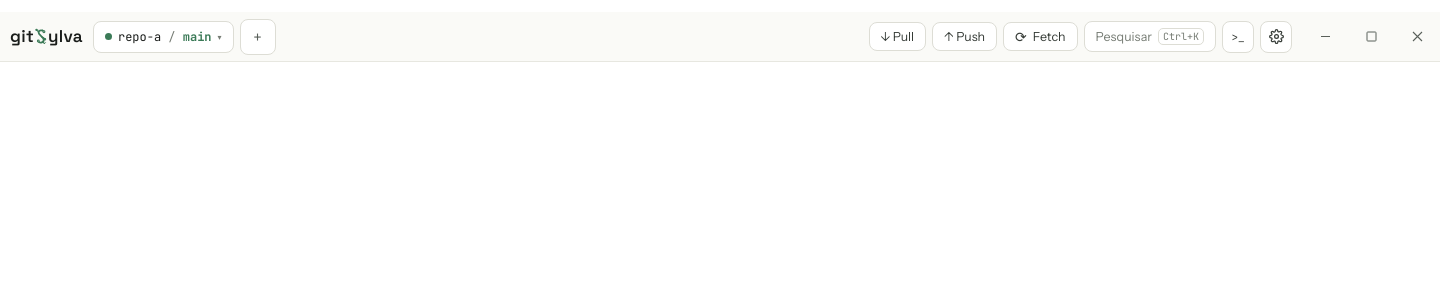
Test: Titlebar repo dropdown — pinned (FIXADOS) › Fixar in the row menu pins the repo; the menu then offers Remover dos fixados
Click the button "repo-a / main ▾": click(163, 36) left=93, top=20, right=234, bottom=52
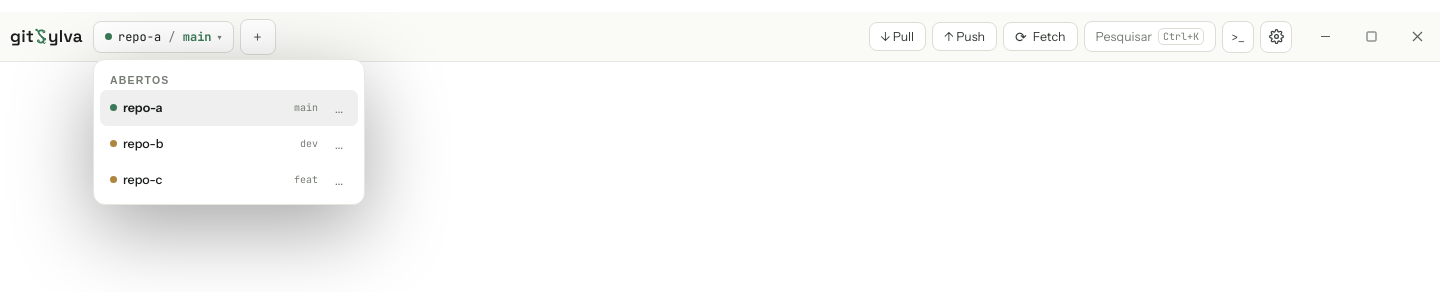
Click the button named "Opções do repositório": click(339, 108) left=335, top=100, right=343, bottom=116
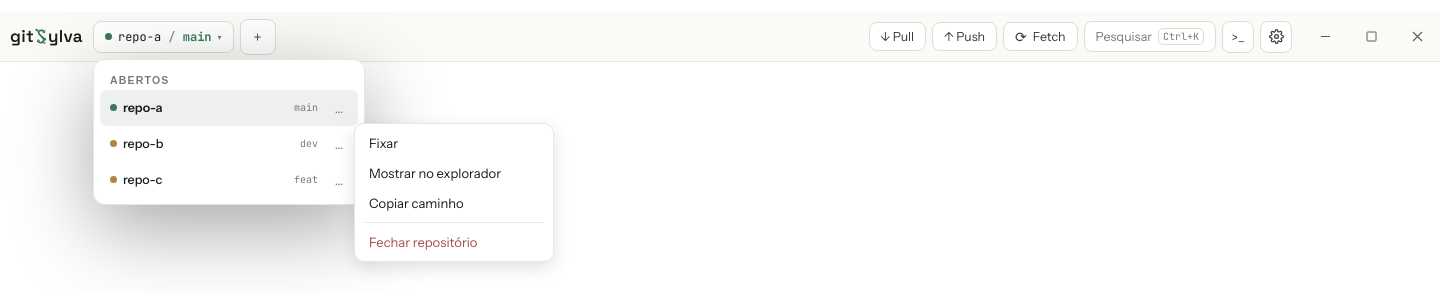
Click the text "Fixar": click(384, 142) left=369, top=134, right=398, bottom=150
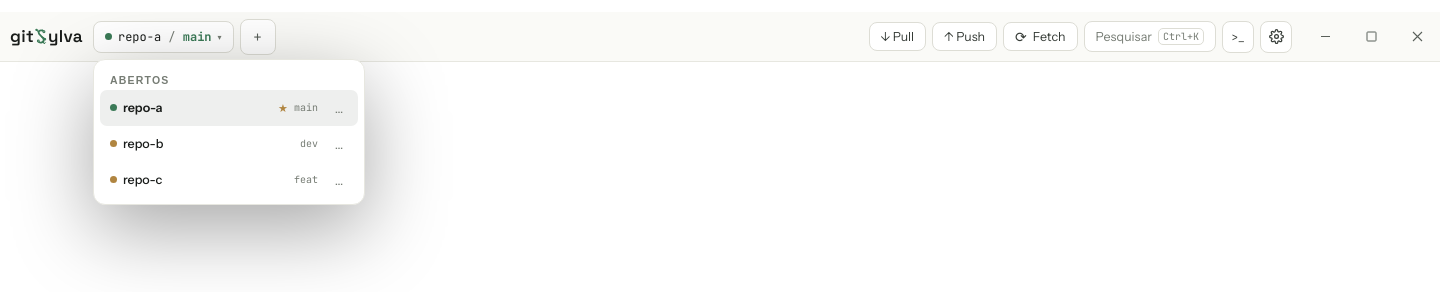
Picking the item only closes the `…` menu, not the parent dropdown.
Click the button named "Opções do repositório": click(339, 108) left=335, top=100, right=343, bottom=116
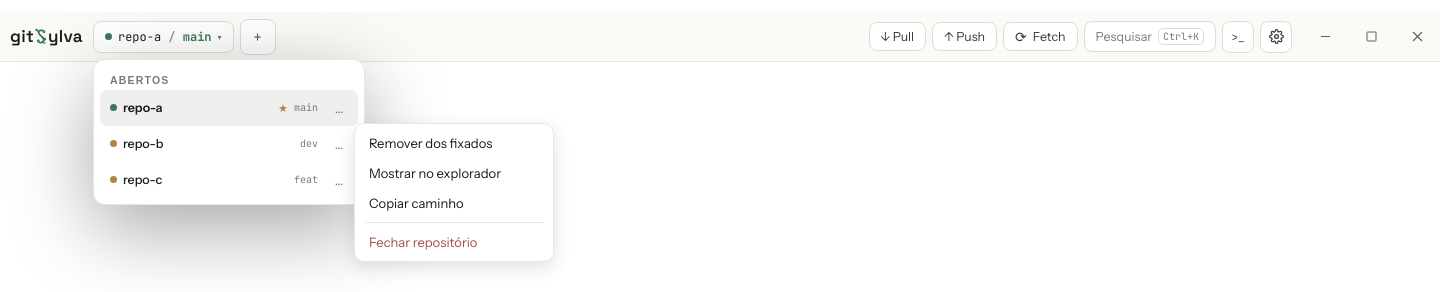
Expected: the text "Remover dos fixados" is shown, left=369, top=134, right=492, bottom=150
